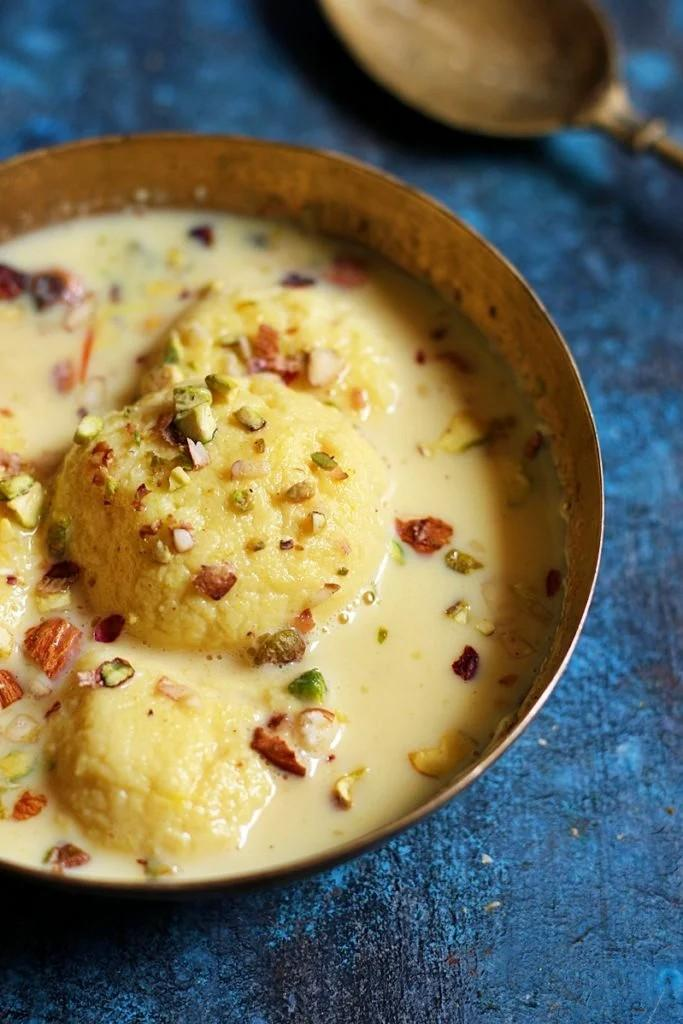RasMalai: (0, 204, 554, 873)
